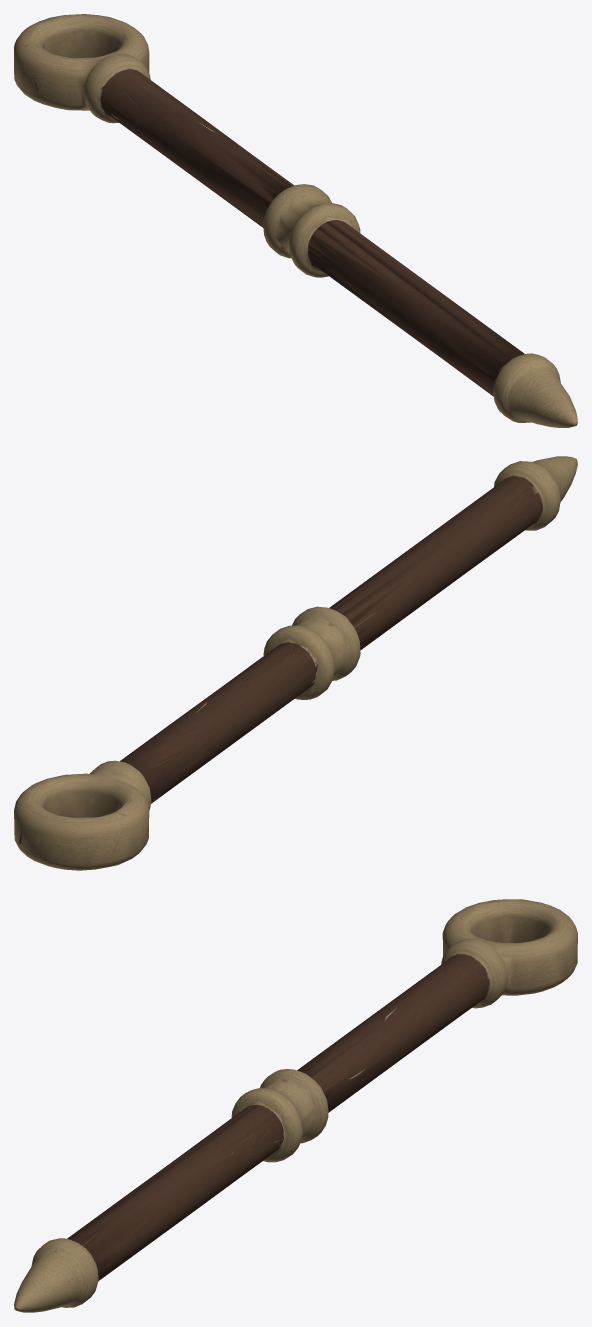
Rendered from VeylaStaff.glb.
3 renders of one model, top to bottom at view 1: azimuth 30°, elevation 25°; view 2: azimuth 150°, elevation 25°; view 3: azimuth 330°, elevation 25°, orthographic.
Parts seen in each view (by area): view 1: VeylaStaff; view 2: VeylaStaff; view 3: VeylaStaff.
Boxes of the visible parts, x1,y1,x2,y2 form: VeylaStaff: (14, 14, 577, 427); VeylaStaff: (14, 456, 577, 870); VeylaStaff: (14, 899, 577, 1312).
Bounding box in the file's own units: 0.5364 × 0.3057 × 4.2.
1 material, 1 textured.
